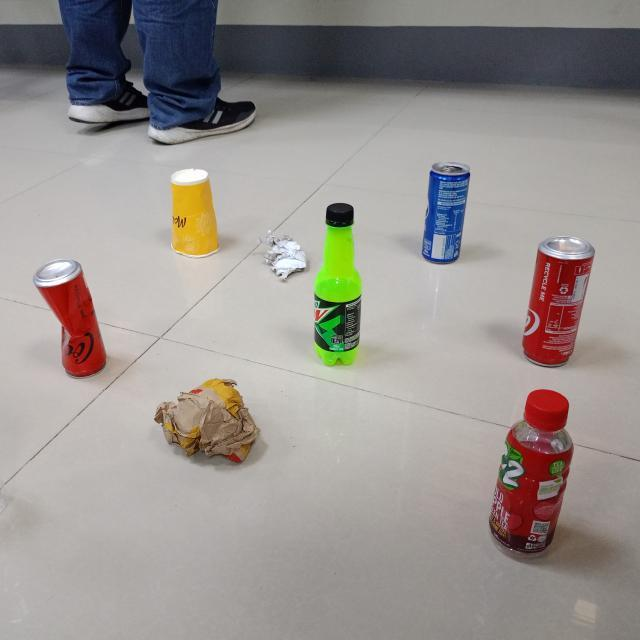recyclable waste: (483, 383, 582, 565), (515, 228, 600, 374), (147, 370, 266, 470), (26, 252, 110, 384), (307, 198, 368, 372), (416, 158, 476, 268), (164, 162, 225, 260), (258, 228, 314, 284)
